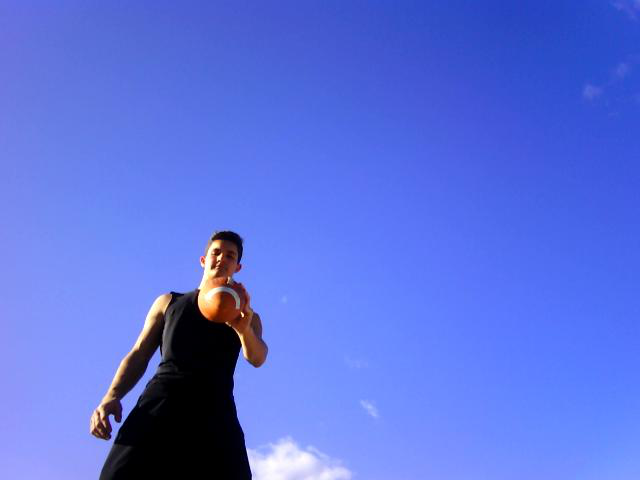footbal: (196, 273, 252, 324)
